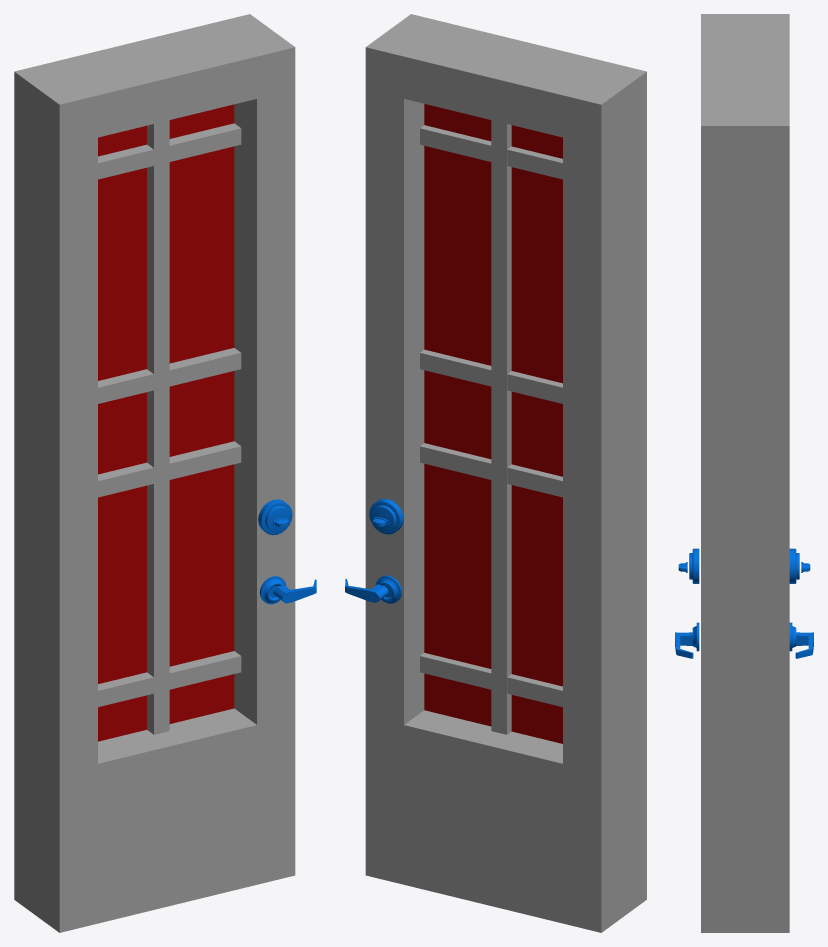
3 views of the same model, side by side, from view 1: azimuth 30°, elevation 25°; view 2: azimuth 150°, elevation 25°; view 3: azimuth 270°, elevation 25° (orthographic). The views are drawn at different scales.
Parts seen in each view (by area): view 1: PL_L; view 2: PL_L; view 3: PL_L.
Part boxes in pixels (x1=…): PL_L: x1=14, y1=14, x2=316, y2=932; PL_L: x1=345, y1=14, x2=646, y2=932; PL_L: x1=675, y1=14, x2=813, y2=932.
Size of the model in its own units: 72.36 by 227 by 35.43.
